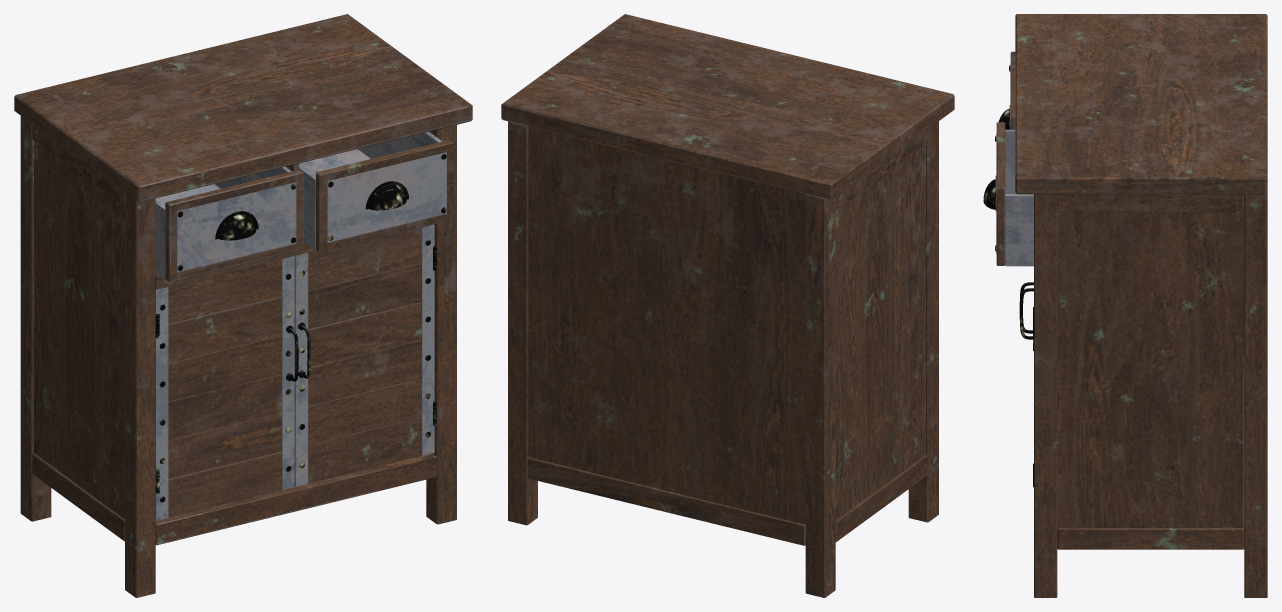
File: Cabinet_01.fbx
3 renders of one model, left to right at view 1: azimuth 30°, elevation 25°; view 2: azimuth 150°, elevation 25°; view 3: azimuth 270°, elevation 25°, orthographic.
Parts seen in each view (by area): view 1: Cabinet_01, Cabinet_door_sx_01, Cabinet_door_dx_01, Cabinet_drawer_dx_01, Cabinet_drawer_sx_01; view 2: Cabinet_01; view 3: Cabinet_01, Cabinet_drawer_dx_01, Cabinet_drawer_sx_01.
Boxes of the visible parts, <box> form: Cabinet_01: <box>14,14,472,597</box>; Cabinet_door_sx_01: <box>155,256,298,520</box>; Cabinet_door_dx_01: <box>294,224,436,486</box>; Cabinet_drawer_dx_01: <box>299,131,453,252</box>; Cabinet_drawer_sx_01: <box>155,166,303,282</box>; Cabinet_01: <box>501,14,954,597</box>; Cabinet_01: <box>1015,14,1267,597</box>; Cabinet_drawer_dx_01: <box>983,122,1033,266</box>; Cabinet_drawer_sx_01: <box>998,51,1015,129</box>.
Bounding box in the file's own units: 0.8337 × 1 × 0.6081.
